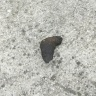Dog: (39, 35, 64, 64)
